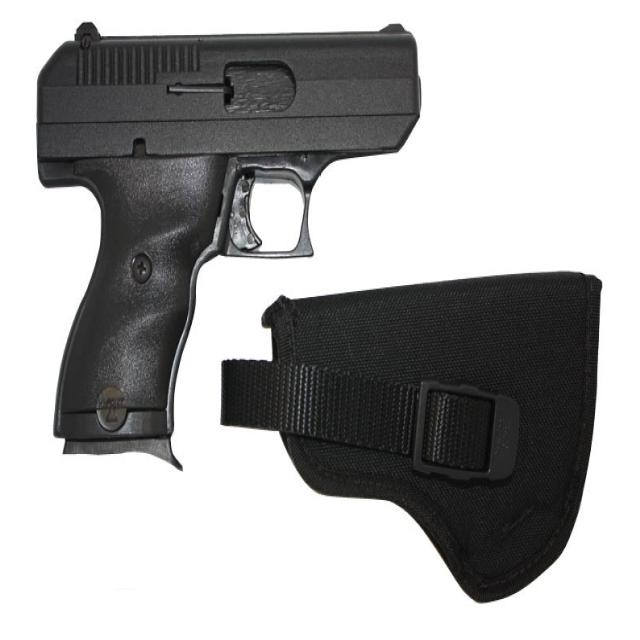Weapon: (36, 23, 420, 453)
